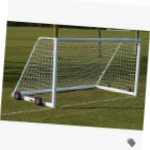goals: (11, 34, 142, 113)
